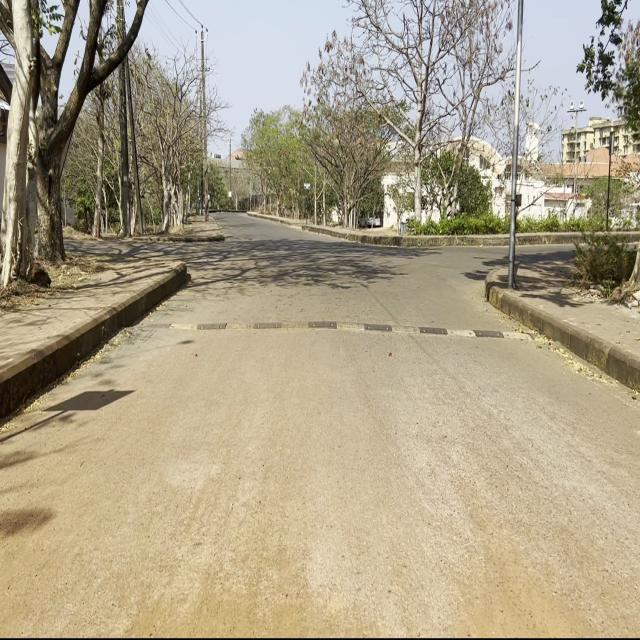Road: (3, 214, 635, 633)
